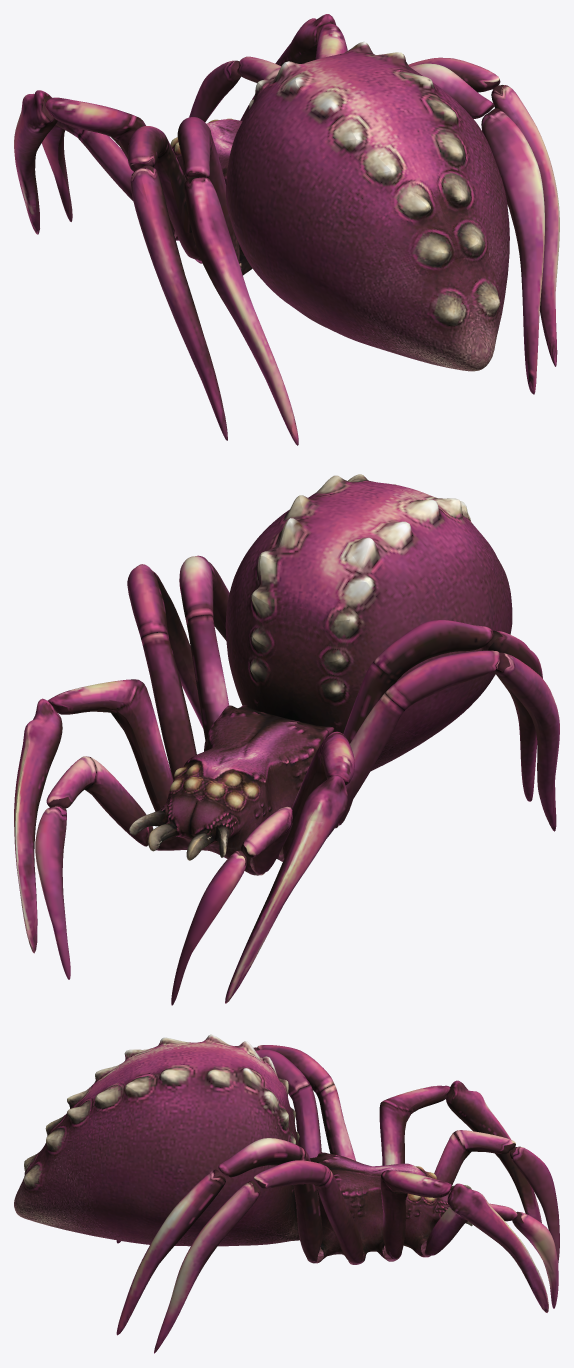
Rendered from GiantSpider.obj.
3 renders of one model, top to bottom at view 1: azimuth 30°, elevation 25°; view 2: azimuth 150°, elevation 25°; view 3: azimuth 270°, elevation 25°, orthographic. The views are drawn at different scales.
Parts seen in each view (by area): view 1: Mesh_0123; view 2: Mesh_0123; view 3: Mesh_0123.
Boxes of the visible parts, x1,y1,x2,y2 form: Mesh_0123: [14, 14, 559, 445]; Mesh_0123: [14, 474, 559, 1005]; Mesh_0123: [14, 1034, 559, 1353].
Size of the model in its own units: 0.4066 by 0.3094 by 0.6419.
